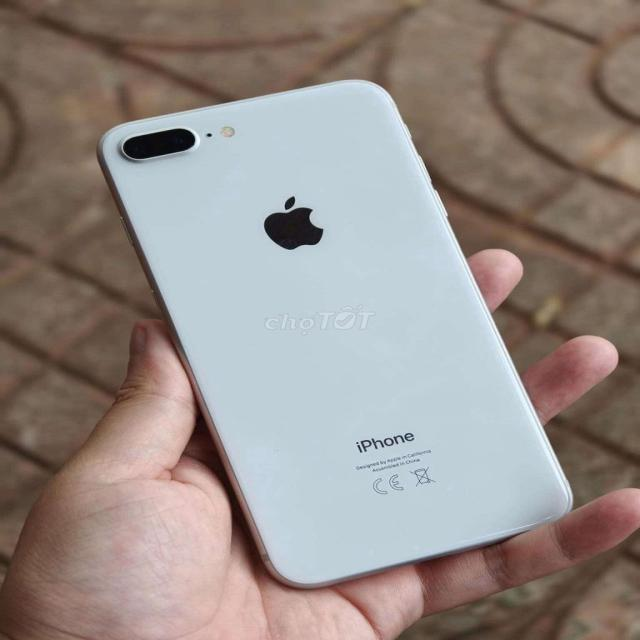gen_7_8: (95, 73, 583, 582)
